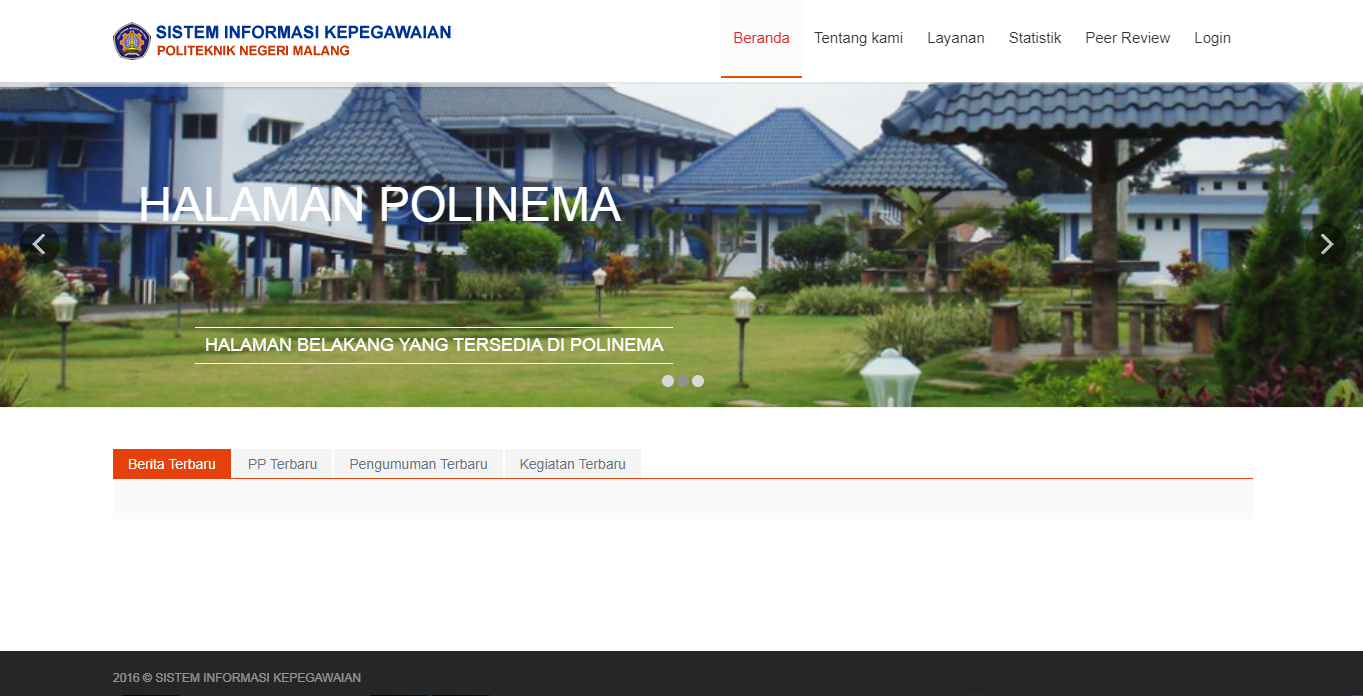Button: (1308, 219, 1350, 268), (20, 222, 61, 267)
Image: (0, 87, 1361, 408), (105, 8, 464, 77)
Menu Bar: (722, 6, 1250, 79), (111, 440, 643, 483)
